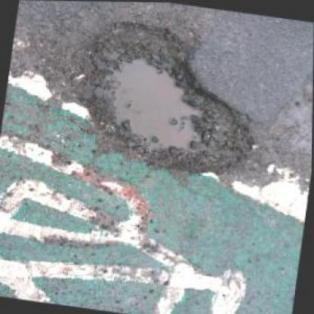Hueco: (63, 15, 270, 186)
